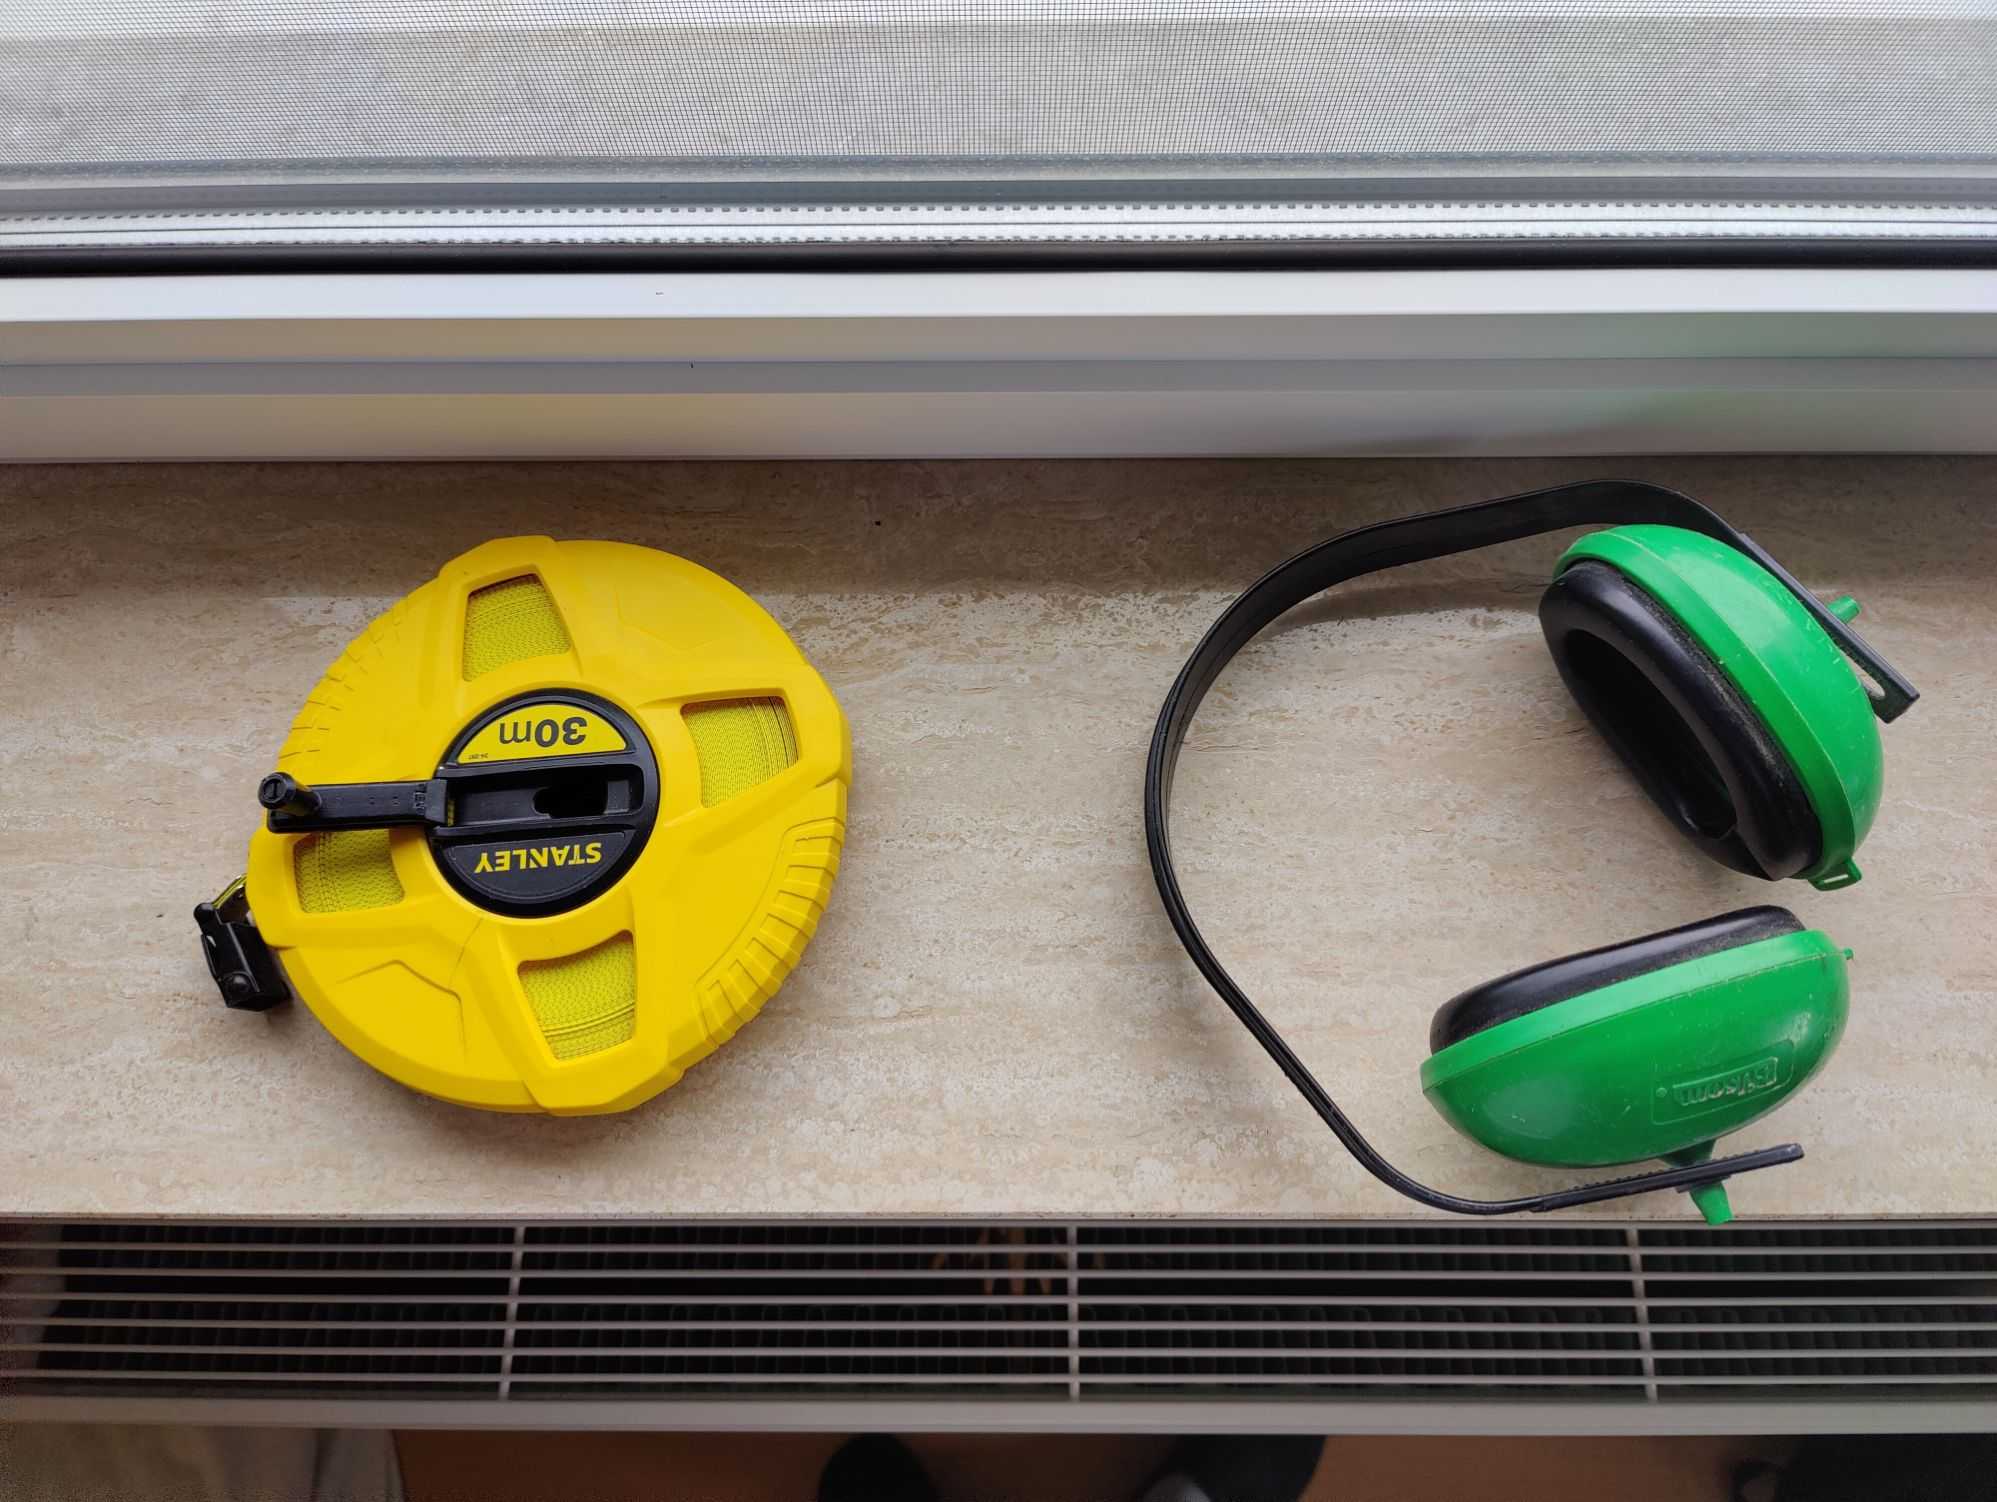headphones: (1145, 481, 1920, 1215)
tapemeasure: (189, 530, 852, 1128)
